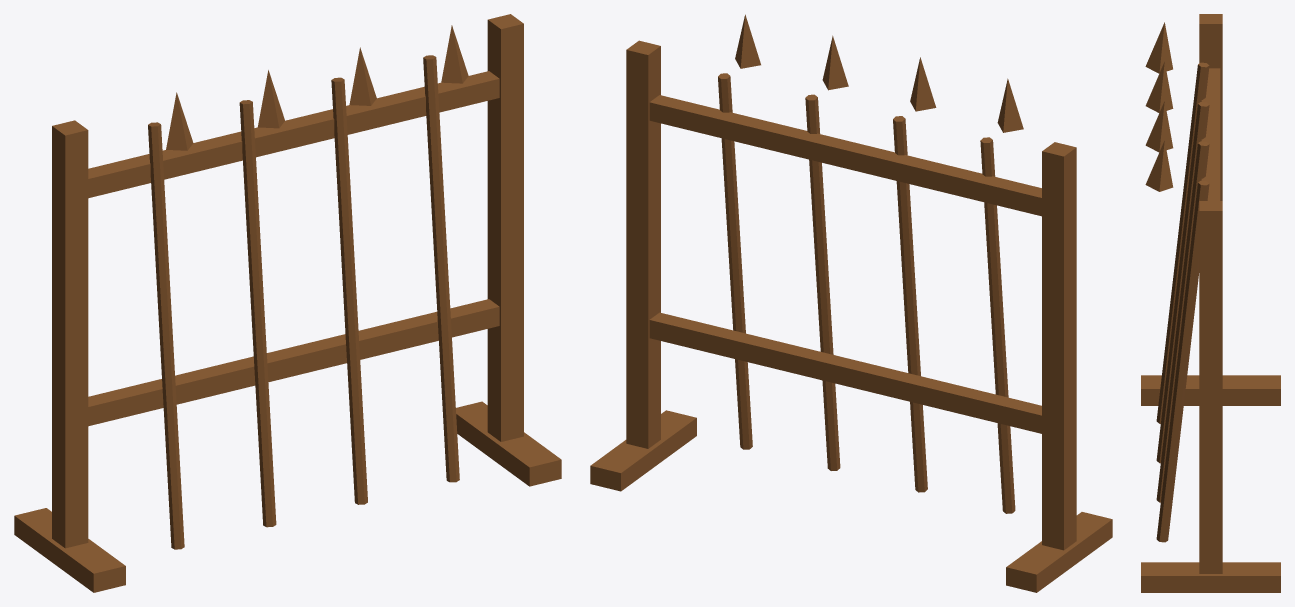
File: SM_WeaponRack_01.fbx
The picture shows the model from 3 angles, left to right: view 1: azimuth 30°, elevation 25°; view 2: azimuth 150°, elevation 25°; view 3: azimuth 270°, elevation 25°; orthographic projection. The views are drawn at different scales.
Parts seen in each view (by area): view 1: SM_WeaponRack_01; view 2: SM_WeaponRack_01; view 3: SM_WeaponRack_01.
Part boxes in pixels (x1,y1,x2,y2): SM_WeaponRack_01: [14, 14, 561, 592]; SM_WeaponRack_01: [590, 14, 1112, 592]; SM_WeaponRack_01: [1141, 14, 1280, 592].
Size of the model in its own units: 2.04 by 1.95 by 0.6.
